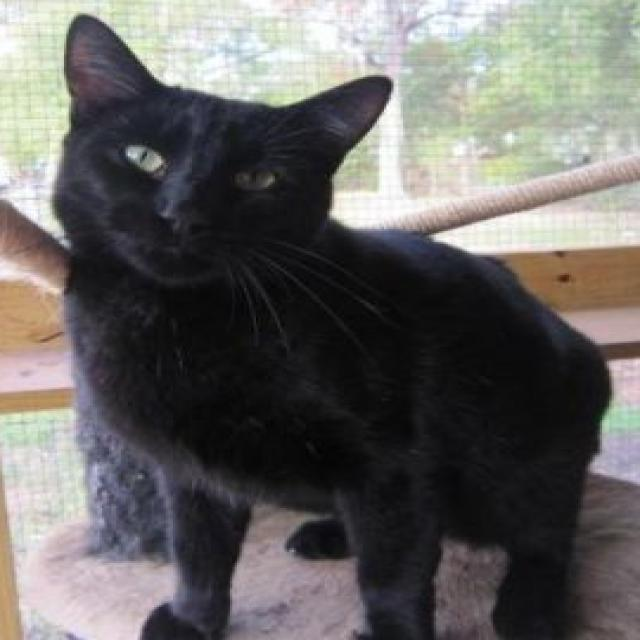Bombay: (50, 7, 616, 640)
